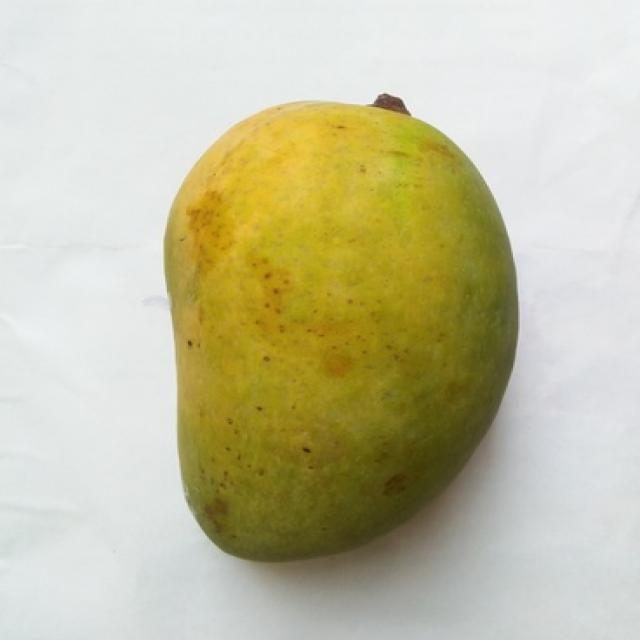Mango: (165, 96, 517, 560)
